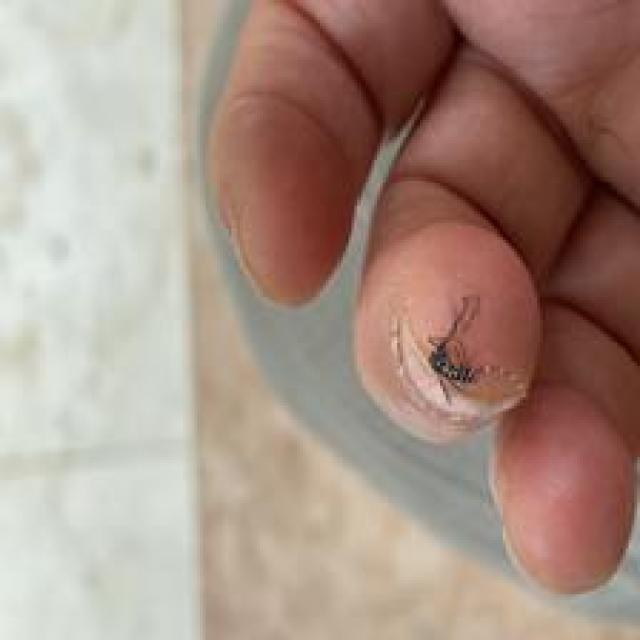Aedes albopictus: (424, 293, 484, 407)
